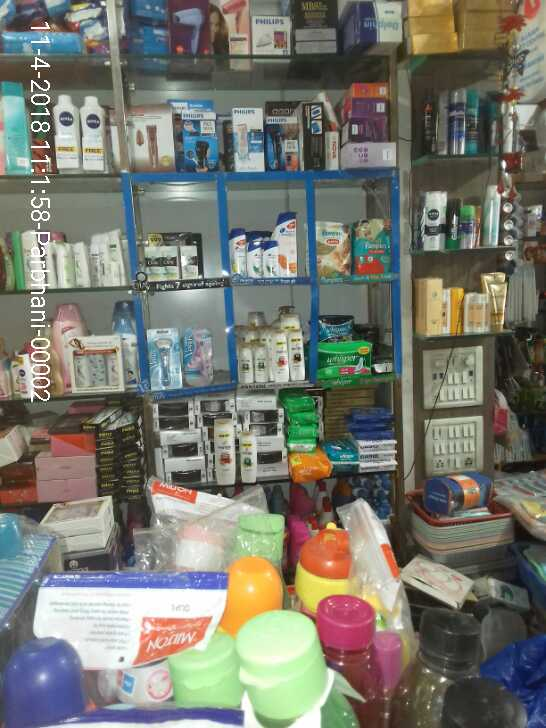gillete: (451, 89, 464, 155)
venus: (148, 328, 182, 389), (184, 327, 213, 387), (446, 196, 460, 249), (488, 99, 499, 154)
